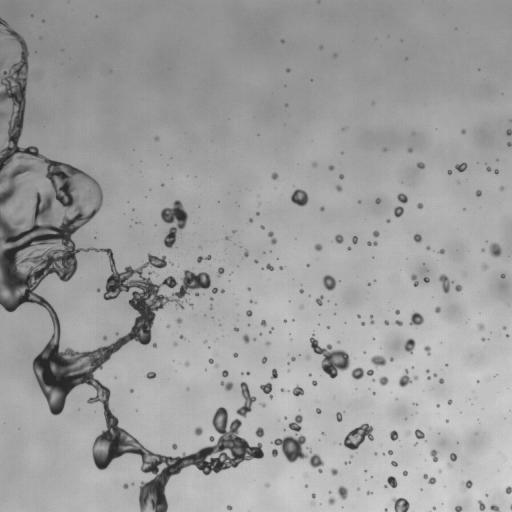droplet: (272, 414, 323, 473), (310, 334, 350, 378), (160, 200, 188, 248), (343, 423, 373, 450), (291, 189, 308, 206), (438, 274, 451, 293), (392, 497, 409, 511), (398, 369, 411, 387), (322, 275, 336, 290), (260, 382, 273, 398), (371, 355, 386, 368), (410, 312, 423, 325), (489, 243, 501, 257), (404, 338, 415, 353), (385, 476, 397, 487), (460, 480, 472, 491), (337, 486, 347, 499), (455, 162, 467, 172), (220, 381, 233, 390), (292, 386, 303, 396), (397, 193, 407, 203), (414, 429, 424, 439), (394, 206, 403, 217), (255, 427, 264, 437), (430, 449, 437, 461), (334, 234, 343, 243), (379, 376, 388, 385), (390, 430, 398, 440), (478, 500, 485, 511), (316, 295, 323, 305), (271, 369, 278, 379), (490, 504, 500, 511), (413, 234, 421, 242), (194, 427, 202, 435), (217, 267, 224, 276), (242, 334, 249, 343), (146, 372, 156, 378), (314, 243, 322, 250), (328, 497, 335, 505), (336, 412, 342, 421), (417, 162, 424, 169), (271, 172, 278, 179), (424, 346, 430, 354), (271, 449, 277, 457), (373, 230, 379, 237), (266, 264, 273, 270), (395, 320, 402, 326), (222, 370, 228, 377), (331, 468, 337, 475), (505, 486, 511, 493), (455, 505, 462, 511), (15, 220, 23, 225), (352, 236, 357, 244), (336, 185, 342, 191), (455, 285, 461, 291), (212, 287, 218, 293), (246, 310, 252, 316), (478, 323, 484, 329), (261, 357, 267, 363), (435, 306, 440, 313), (506, 129, 511, 135), (476, 190, 481, 196), (417, 203, 422, 209), (438, 249, 444, 254), (423, 277, 429, 282), (261, 320, 266, 326), (172, 443, 177, 449), (391, 461, 397, 466), (227, 505, 232, 511), (328, 165, 333, 170), (375, 198, 380, 203), (482, 264, 487, 269), (176, 318, 181, 323), (102, 335, 107, 340), (439, 378, 444, 383), (312, 380, 317, 385), (447, 399, 452, 404), (316, 408, 321, 413), (123, 483, 128, 488), (244, 250, 248, 256), (403, 470, 407, 476), (461, 129, 465, 134), (312, 162, 316, 167), (494, 169, 498, 174), (339, 174, 343, 179), (320, 206, 324, 211), (395, 309, 399, 314), (384, 320, 388, 325), (265, 341, 270, 345), (388, 450, 392, 455), (286, 68, 290, 72), (507, 142, 511, 146), (408, 148, 412, 152), (486, 167, 490, 171), (448, 170, 452, 174), (501, 274, 505, 278), (220, 289, 224, 293), (299, 288, 303, 292), (188, 303, 192, 307), (234, 327, 238, 331), (180, 335, 184, 339), (152, 343, 156, 347), (306, 355, 310, 359), (291, 357, 295, 361), (185, 362, 189, 366), (246, 371, 250, 375), (433, 373, 437, 377), (148, 271, 153, 274), (344, 461, 349, 464), (366, 491, 371, 494), (333, 53, 337, 56), (155, 137, 159, 140), (386, 219, 390, 222), (226, 236, 229, 240), (426, 246, 429, 250), (279, 266, 283, 269), (481, 338, 485, 341), (234, 353, 237, 357), (390, 357, 393, 361), (414, 376, 417, 380), (261, 403, 265, 406), (266, 483, 269, 487), (383, 148, 386, 151), (500, 187, 503, 190), (261, 225, 264, 228), (347, 247, 350, 250), (254, 260, 257, 263), (300, 305, 303, 308), (357, 315, 360, 318), (361, 322, 364, 325), (503, 326, 506, 329), (426, 369, 429, 372), (427, 376, 430, 379), (130, 389, 133, 392), (281, 388, 284, 391), (407, 431, 410, 434), (0, 30, 2, 33), (281, 39, 283, 42), (358, 200, 360, 203), (249, 219, 252, 221), (97, 289, 100, 291), (210, 297, 212, 300), (210, 306, 212, 309), (506, 334, 508, 337), (204, 340, 206, 343), (436, 404, 439, 406), (446, 419, 448, 422), (475, 432, 477, 435), (308, 448, 310, 451), (350, 455, 352, 458), (438, 470, 441, 472), (384, 509, 387, 511), (233, 230, 235, 232), (284, 320, 286, 322), (327, 326, 329, 328), (337, 341, 339, 343), (174, 343, 176, 345), (373, 392, 375, 394), (414, 403, 416, 405), (322, 432, 324, 434), (414, 443, 416, 445), (433, 507, 435, 509)
ligament: (0, 18, 262, 511), (236, 381, 256, 417), (351, 367, 373, 379), (447, 453, 456, 467), (423, 474, 435, 484), (268, 231, 276, 244), (208, 358, 218, 368), (197, 255, 211, 262), (411, 274, 418, 286), (311, 494, 315, 505), (367, 241, 377, 245), (0, 60, 4, 69), (370, 315, 374, 324), (269, 327, 273, 332), (249, 300, 255, 303), (510, 505, 511, 509)
